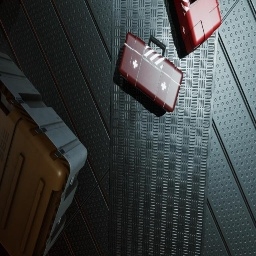FirstAidBox ,: (119, 32, 183, 113), (174, 0, 221, 54)
